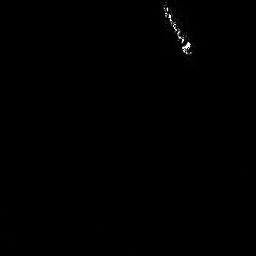ship: (162, 2, 193, 56)
